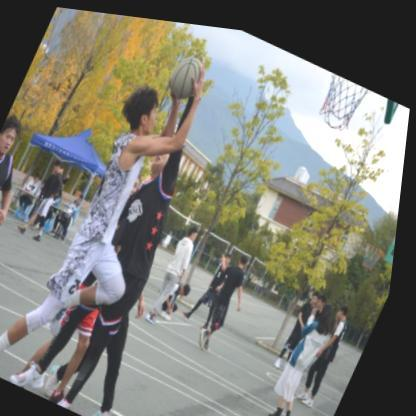basketball: (164, 45, 208, 99)
